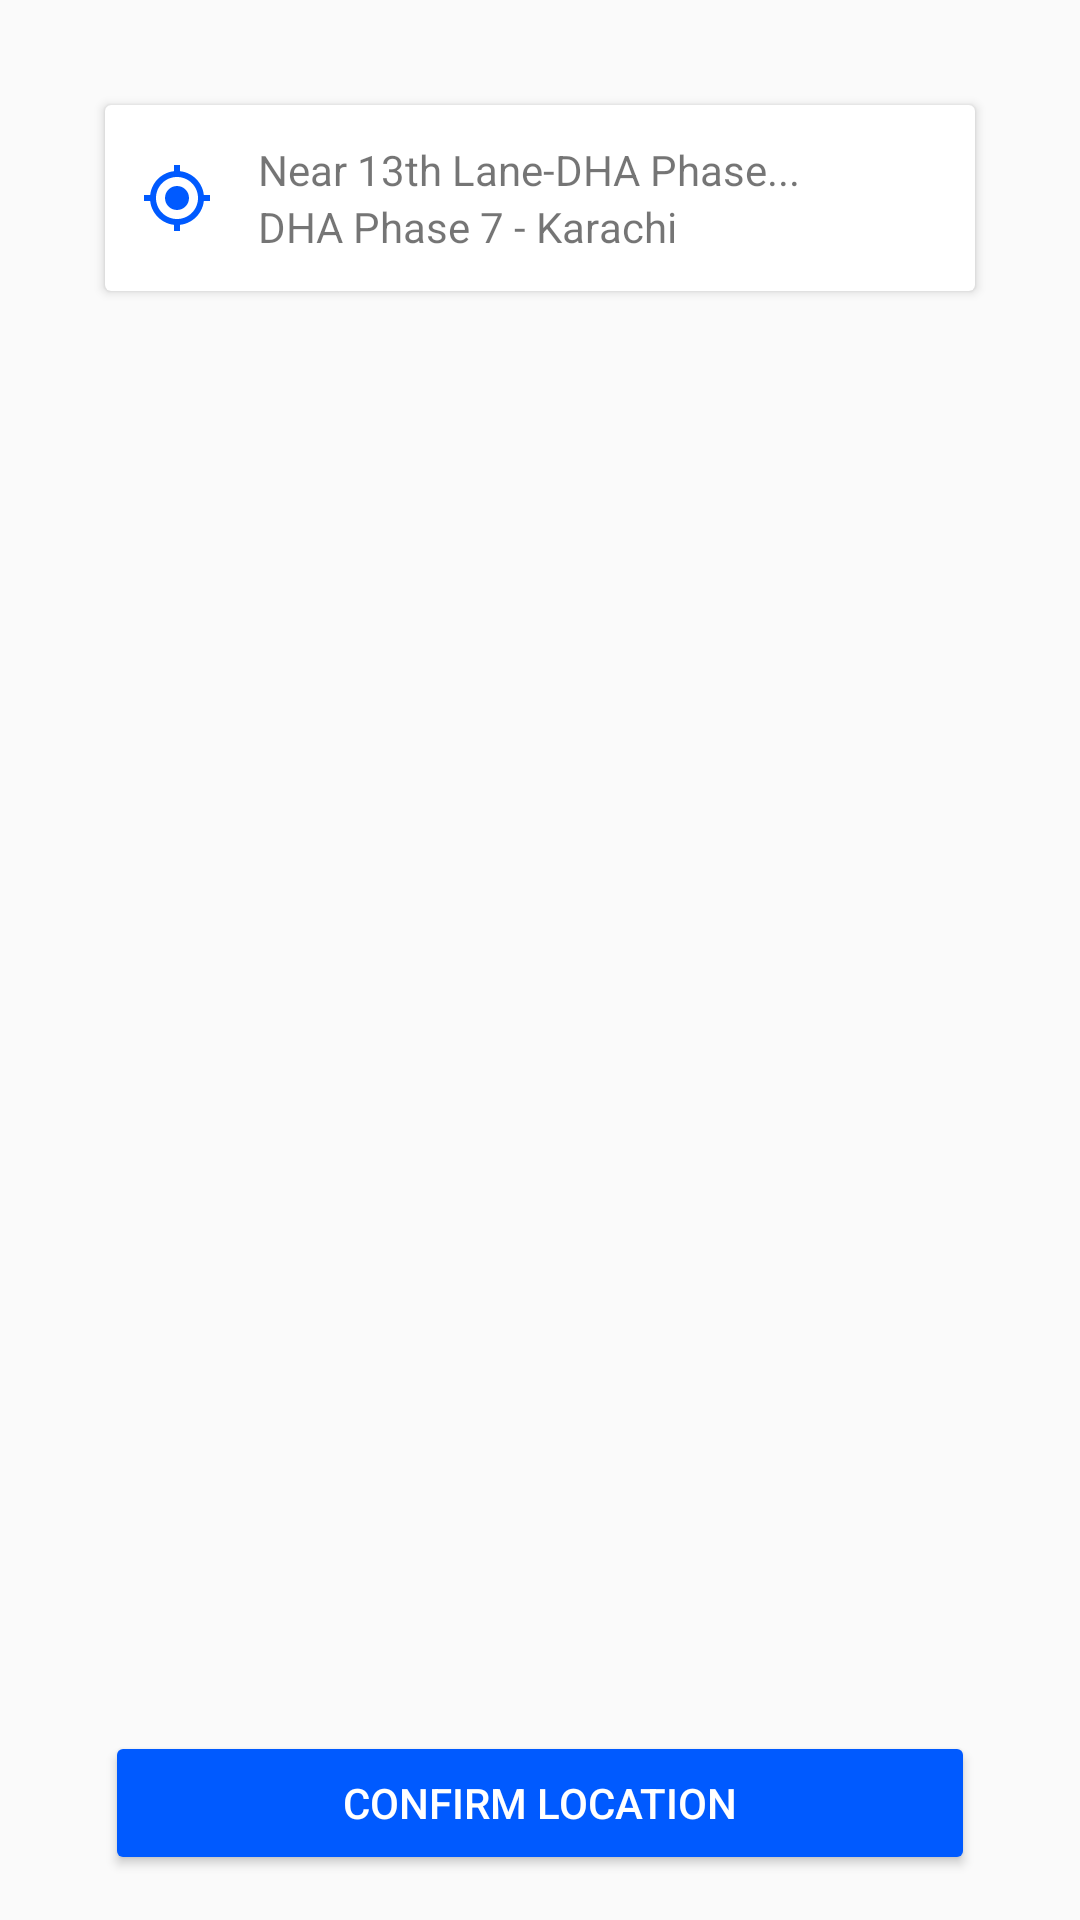

Icons on this 1080x1920 Android screen, each with its box as (left=x1, top=y1, right=x2, bottom=y2):
location: (left=144, top=165, right=210, bottom=231)
